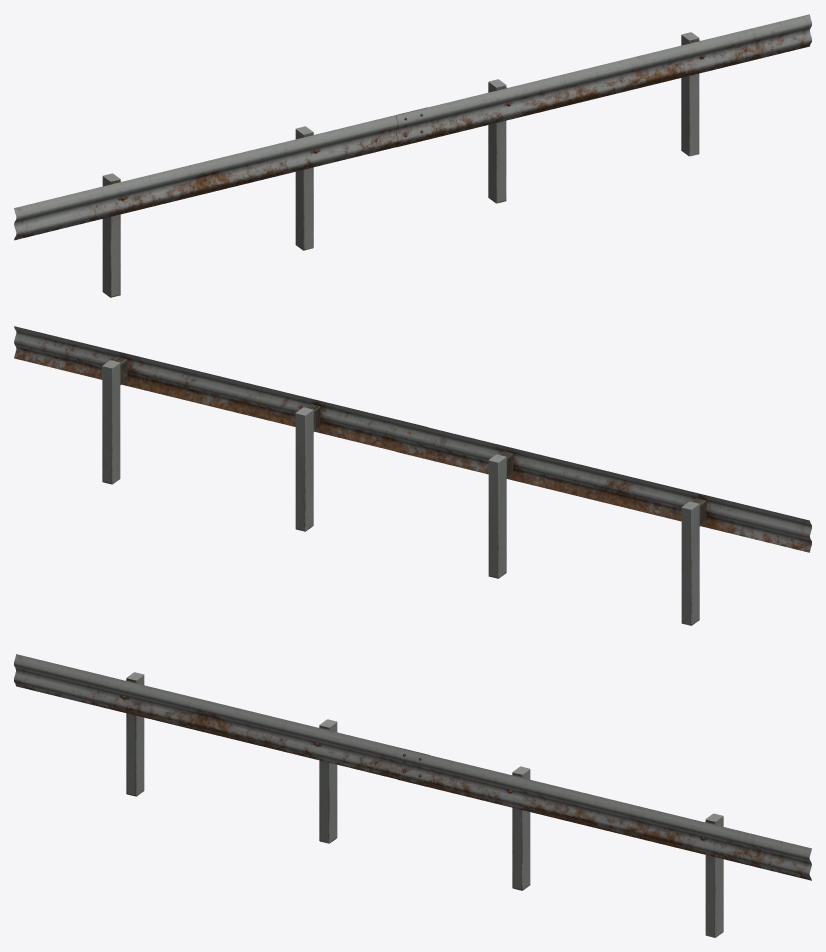
The model's file is guardrail.glb.
3 views of the same model, one above another, from view 1: azimuth 30°, elevation 25°; view 2: azimuth 150°, elevation 25°; view 3: azimuth 330°, elevation 25° (orthographic).
Parts seen in each view (by area): view 1: guardrail; view 2: guardrail; view 3: guardrail.
Part boxes in pixels (x1,y1,x2,y2): guardrail: [14, 14, 811, 297]; guardrail: [14, 326, 811, 625]; guardrail: [14, 654, 811, 937].
Bounding box in the file's own units: 8.04 × 1.15 × 0.3074.
1 material, 1 textured.
